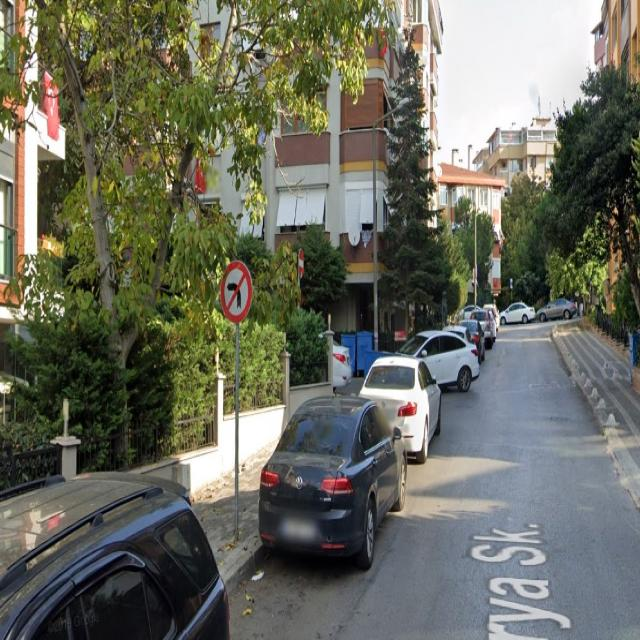girisyok: (298, 248, 303, 278)
soladonulmez: (221, 261, 252, 325)
